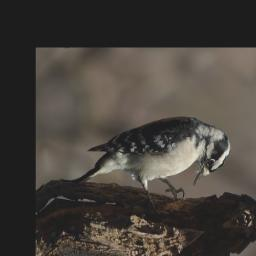Woodpecker: (63, 101, 238, 231)
